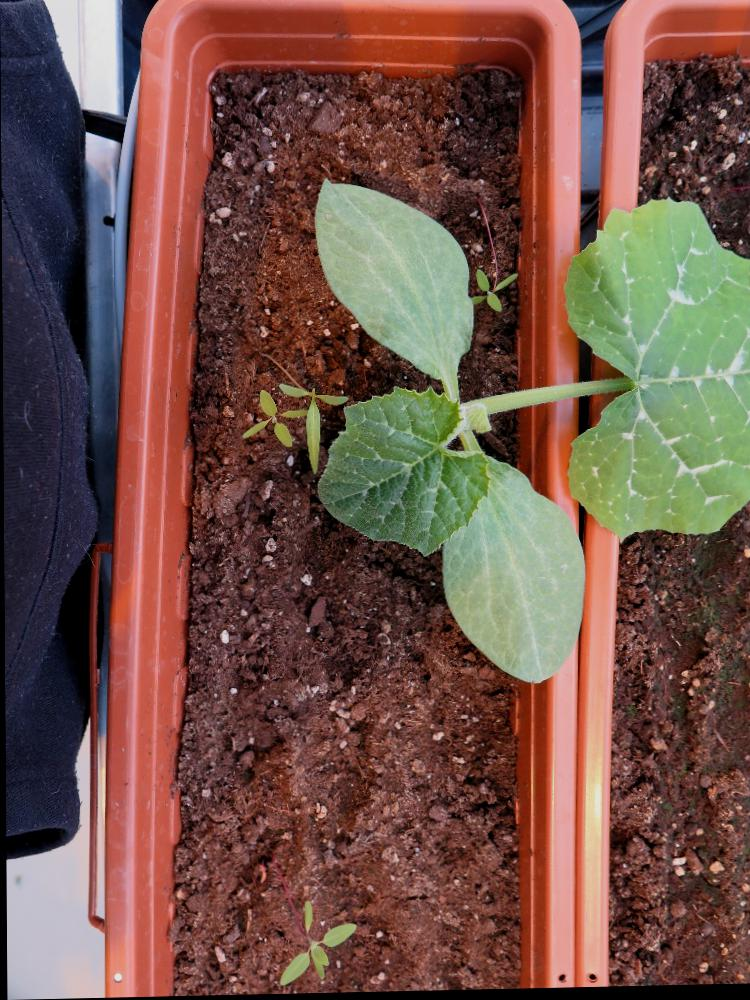weed: (275, 897, 356, 989)
